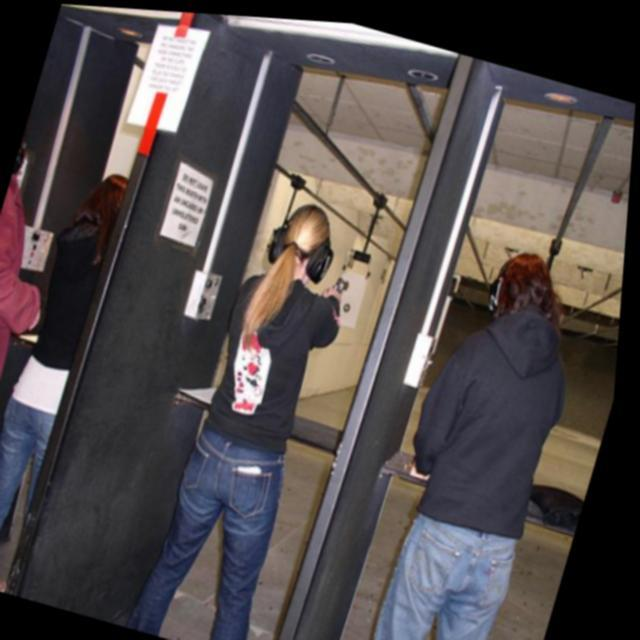weapon: (335, 268, 359, 294)
